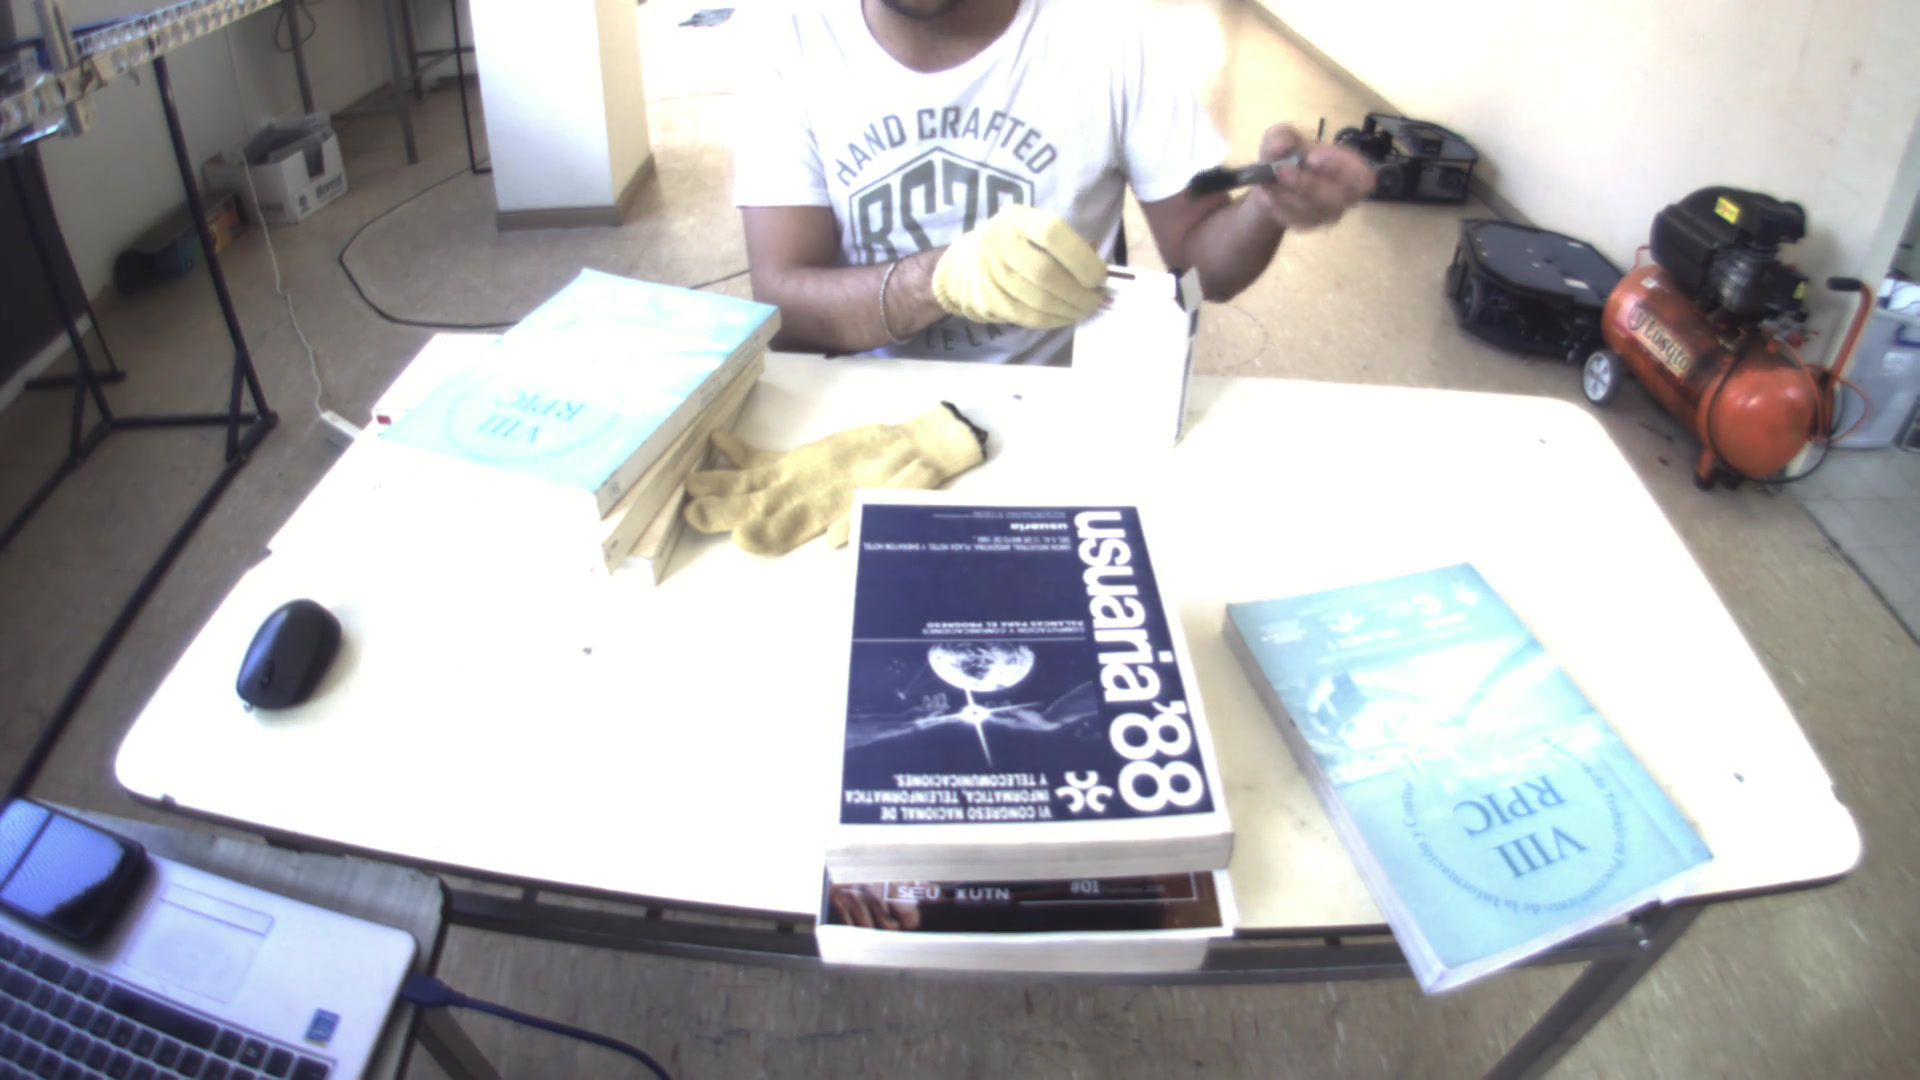hand: (918, 193, 1124, 331), (1254, 124, 1383, 236)
